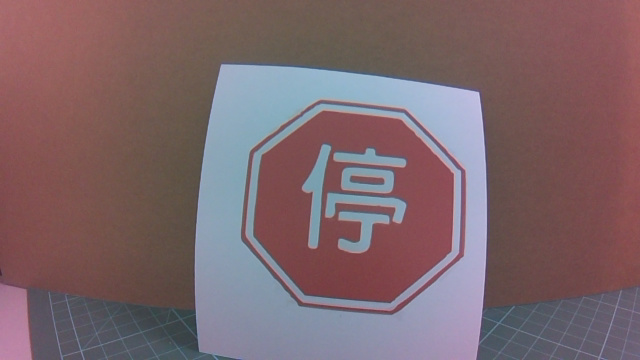stop: (260, 107, 456, 313)
